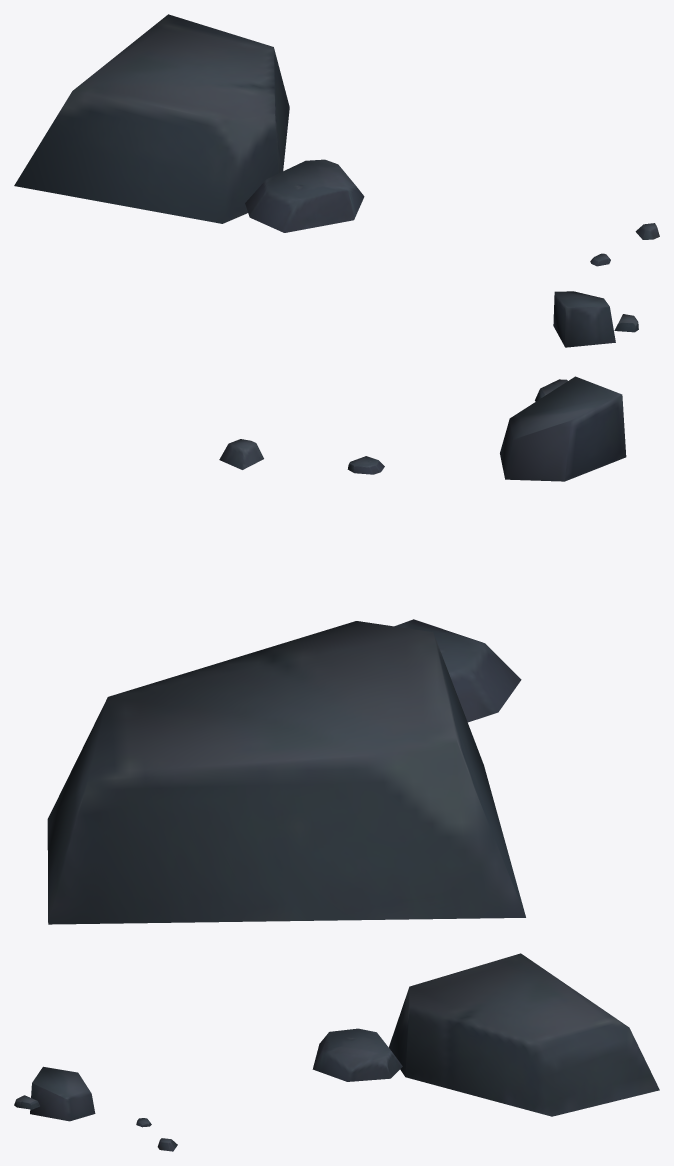
The model's file is Area_13_29.fbx.
3 views of the same model, one above another, from view 1: azimuth 30°, elevation 25°; view 2: azimuth 150°, elevation 25°; view 3: azimuth 270°, elevation 25° (orthographic). The views are drawn at different scales.
Visible parts, largest first — view 1: Area_13_29; view 2: Area_13_29; view 3: Area_13_29.
Boxes of the visible parts, <box> form: Area_13_29: <box>14,14,659,347</box>; Area_13_29: <box>47,376,626,924</box>; Area_13_29: <box>14,953,659,1151</box>.
Size of the model in its own units: 2121 by 431 by 3557.
